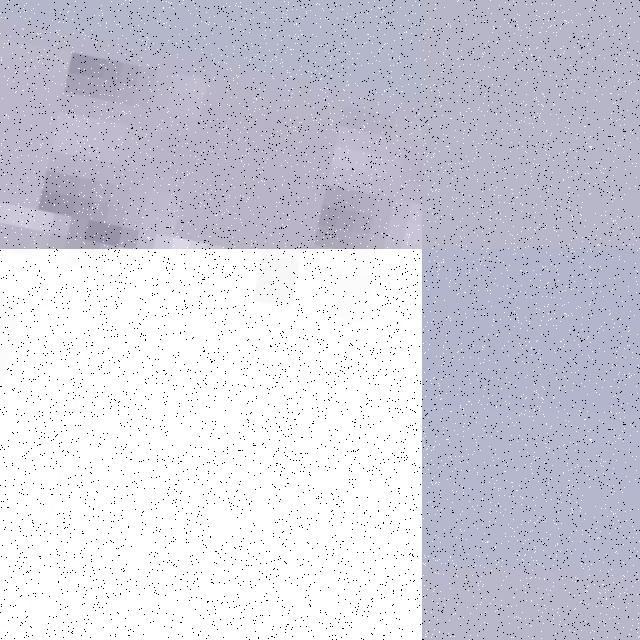0: (0, 0, 422, 249)
drone: (0, 249, 422, 640)
